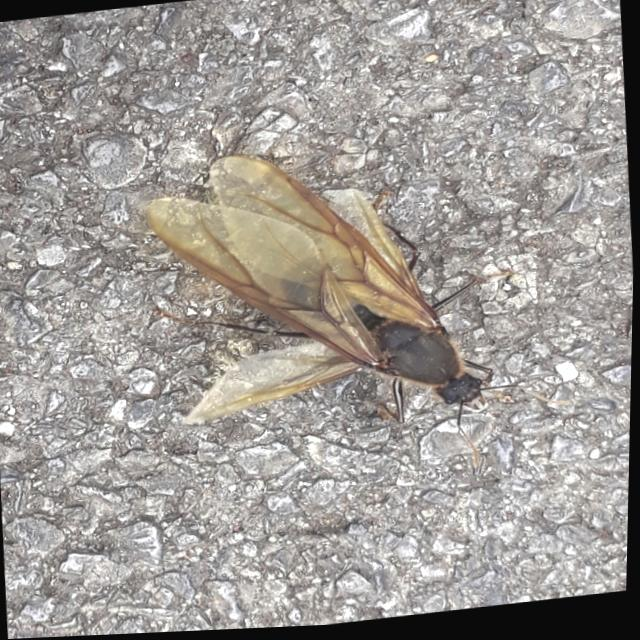Alive-Male-Alate: (140, 122, 581, 507)
